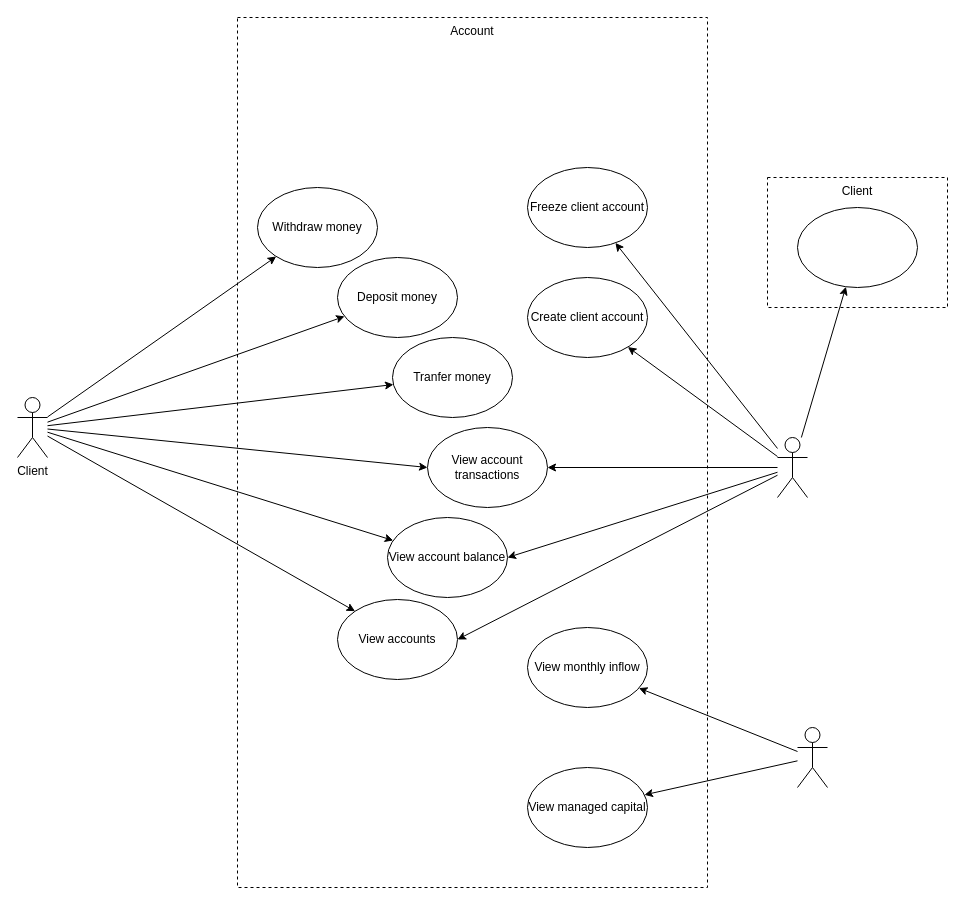
The diagram is 965 pixels wide and 905 high, and some of its shapes have lost their labels. The centre of each missing label's shape, as x and y in pixels:
"Create client" belongs at (857,247).
"Customer Service Employee" belongs at (792,467).
"Fund manager" belongs at (812,757).
